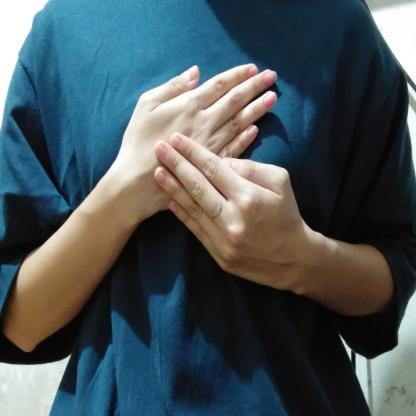thank you: (115, 56, 334, 310)
